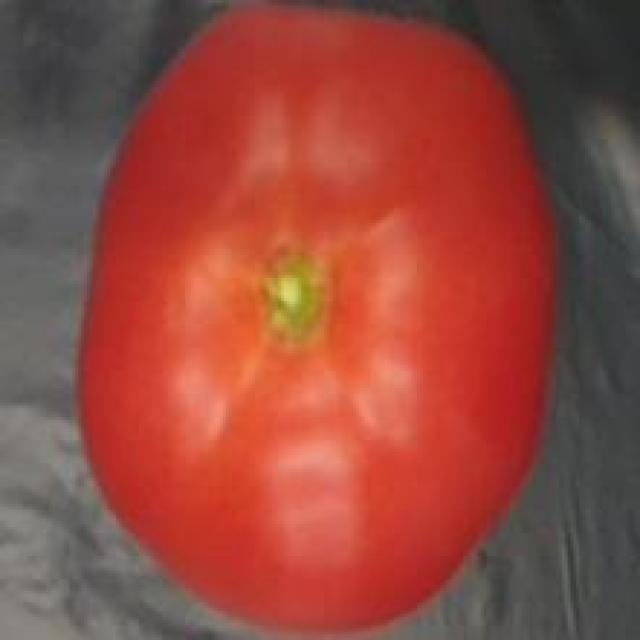ripe tomato: (72, 0, 568, 640)
